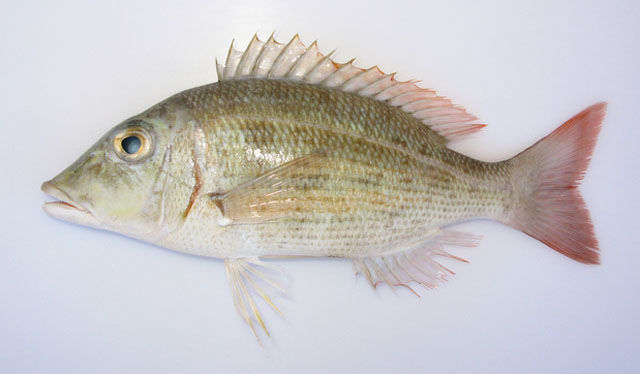fish: (40, 27, 609, 347)
